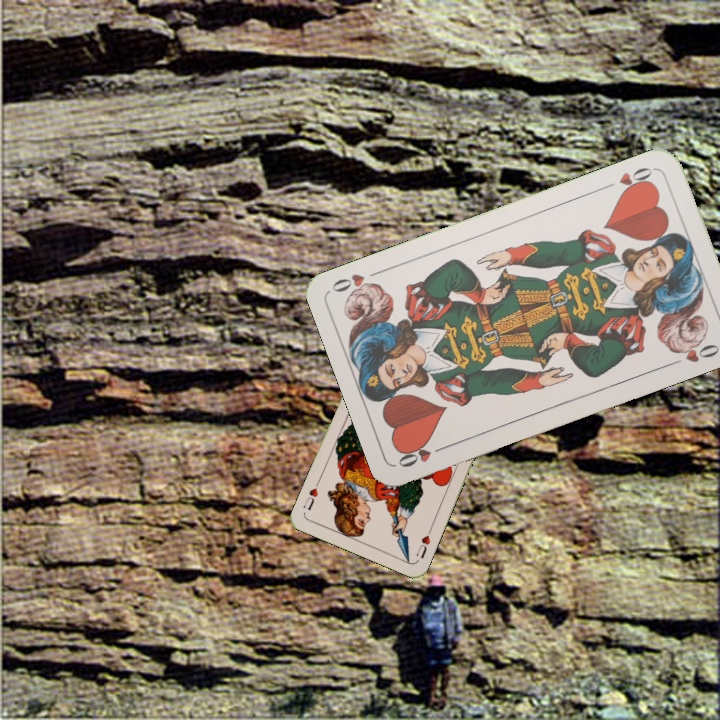HO: (600, 163, 657, 197), (394, 439, 451, 470)
HU: (412, 524, 434, 561)
